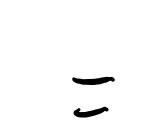eqv: (68, 73, 114, 119)
